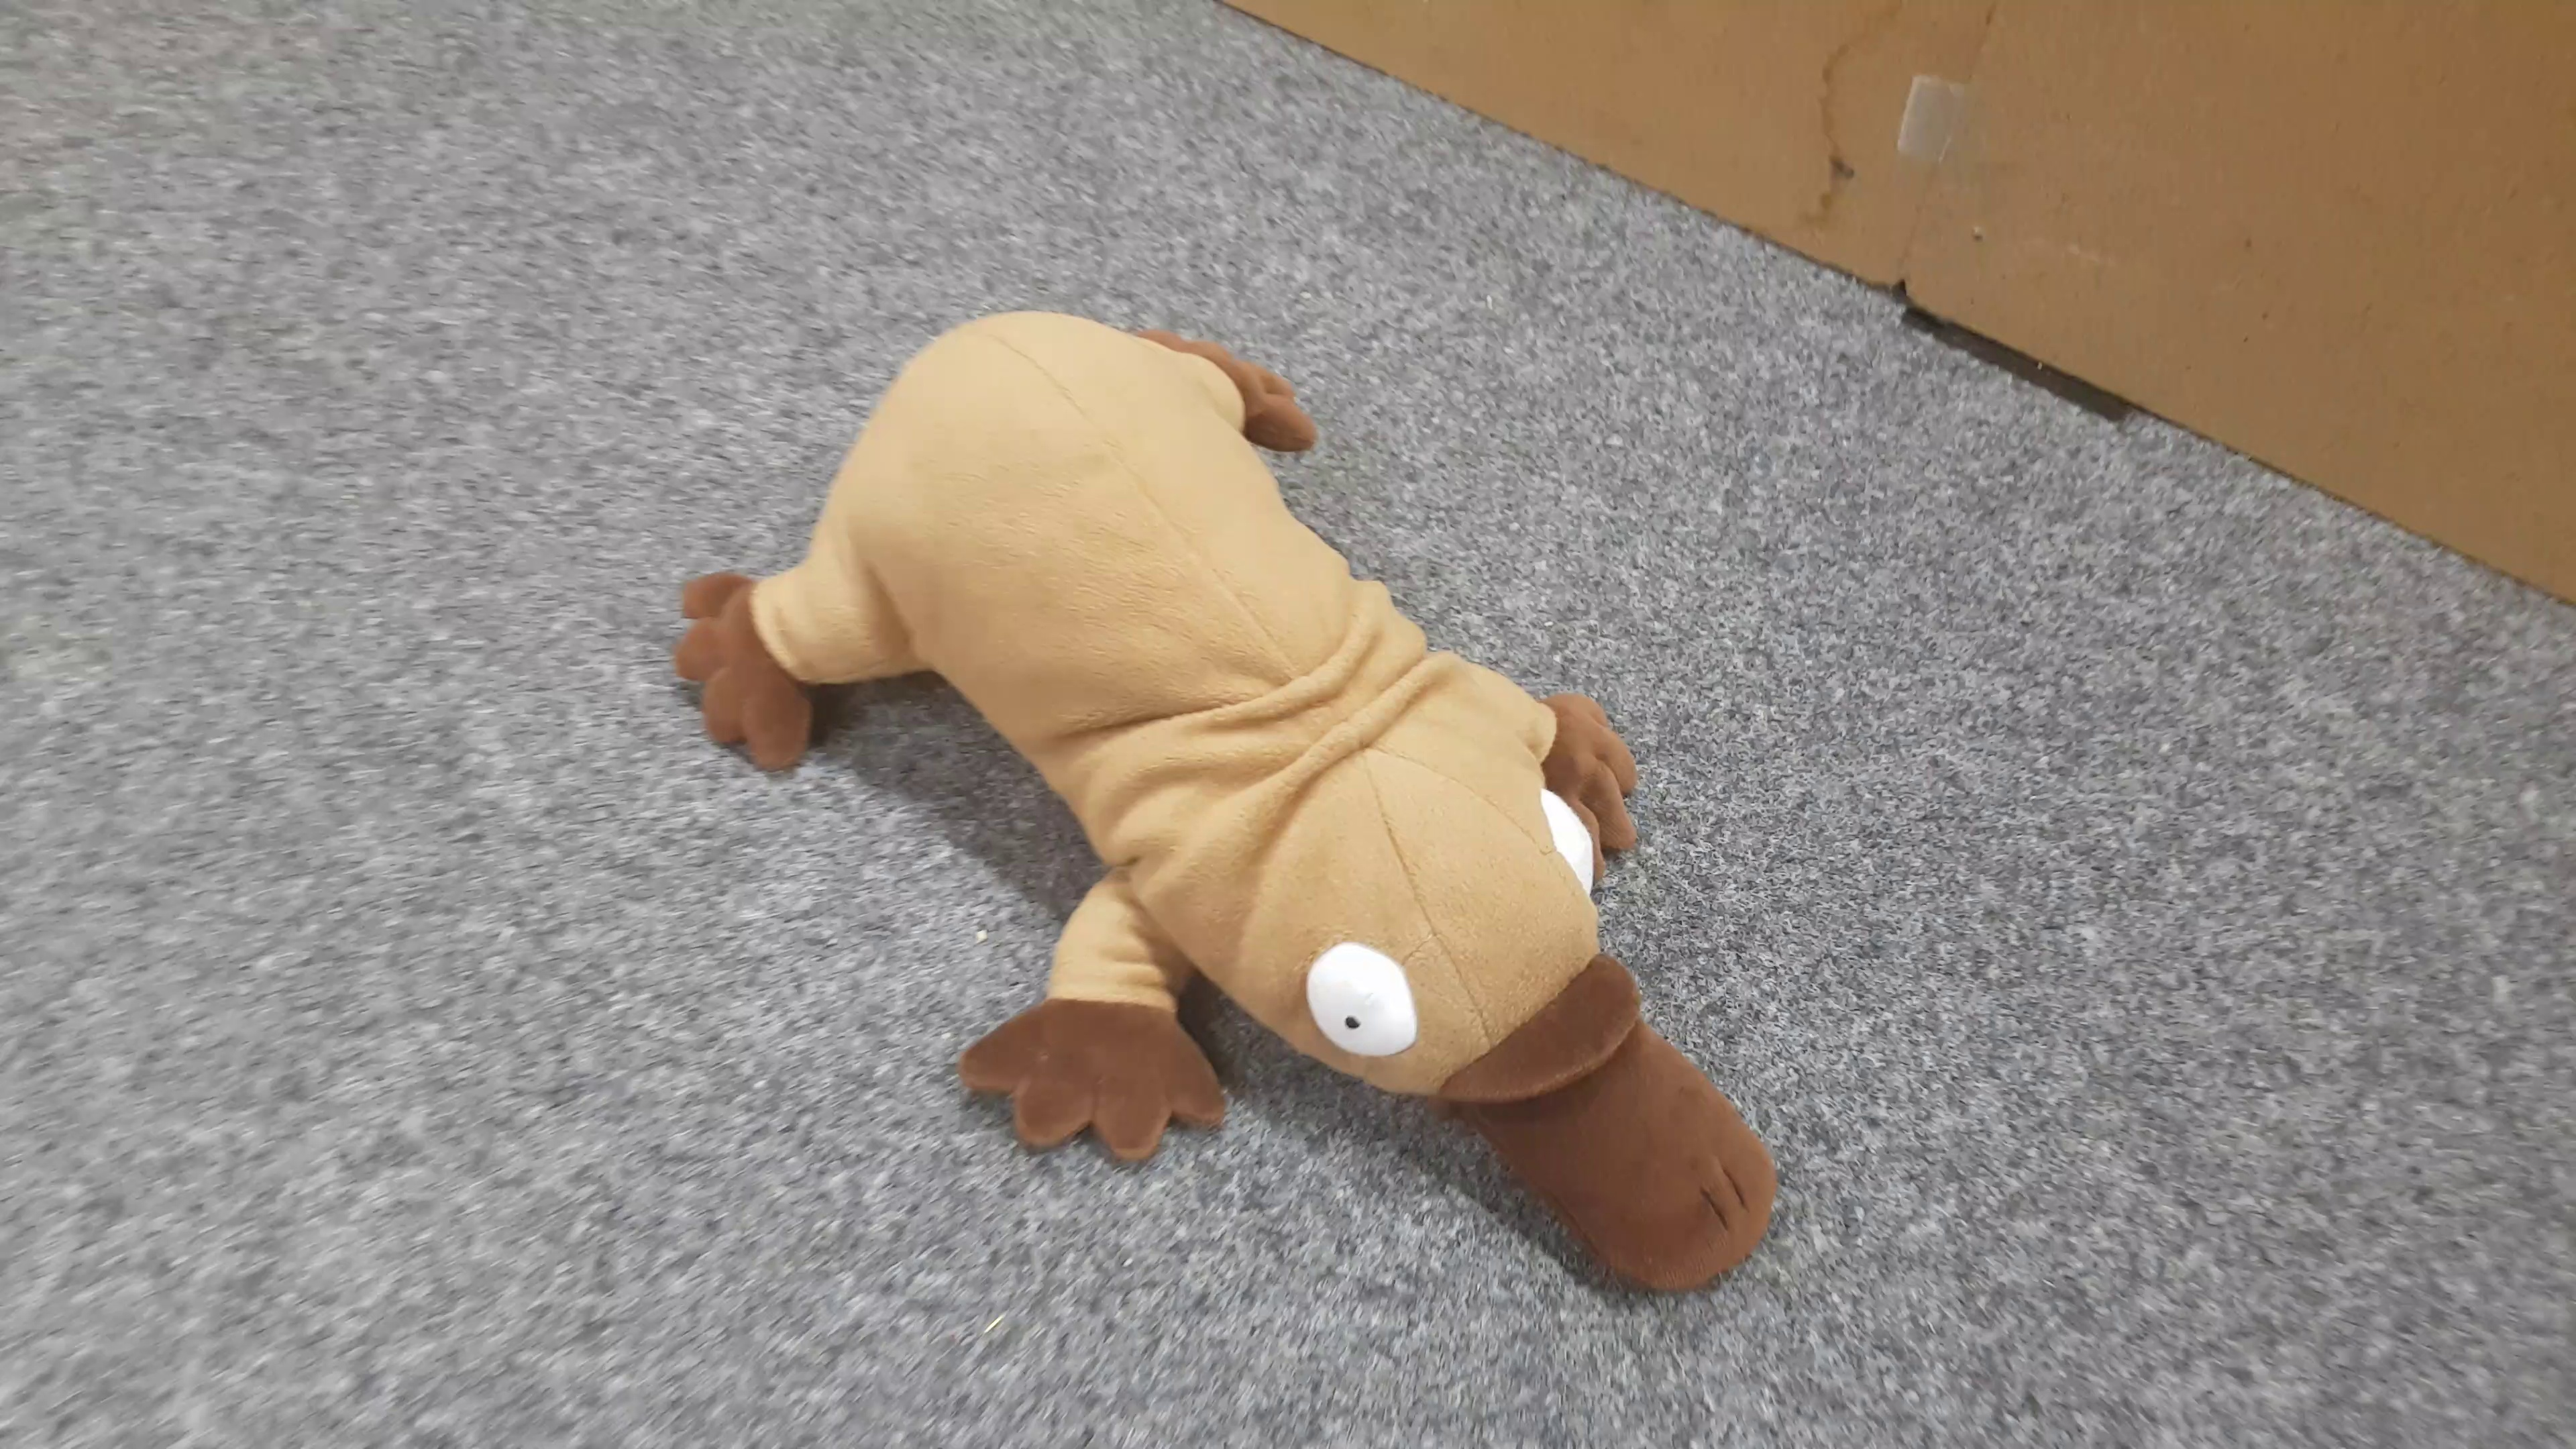grasp: (671, 303, 1780, 1299)
